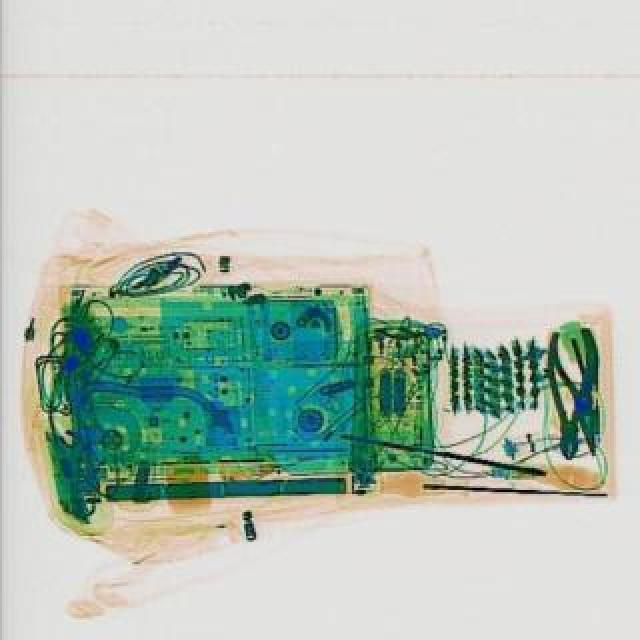wrench: (548, 324, 618, 456), (544, 326, 598, 458)
